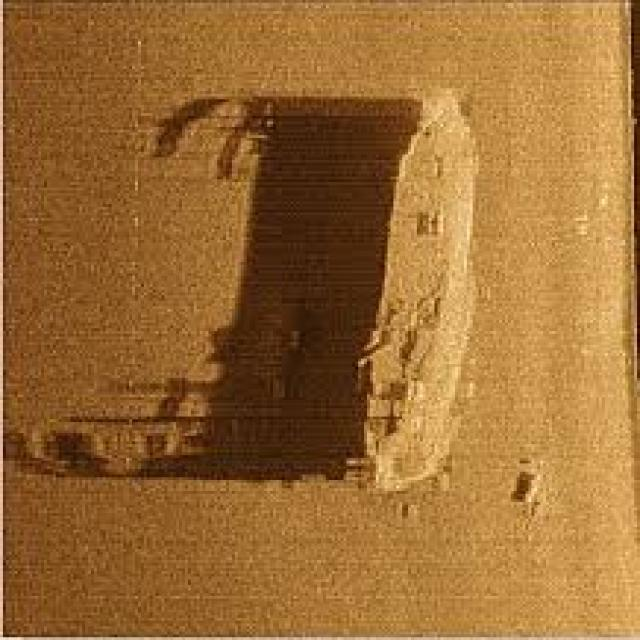ship: (361, 85, 487, 494)
